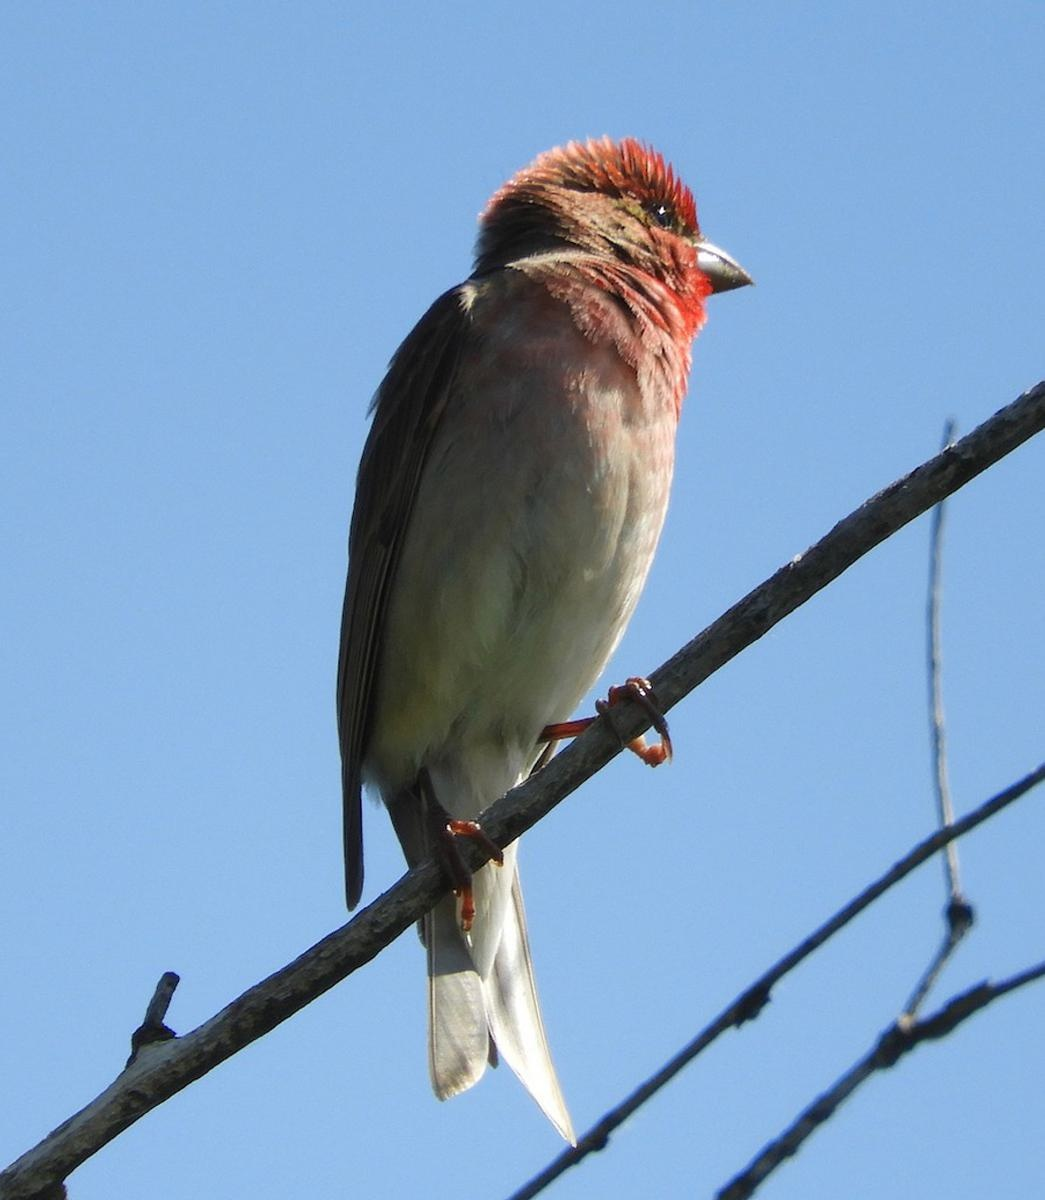rosefinch: (297, 141, 806, 909)
